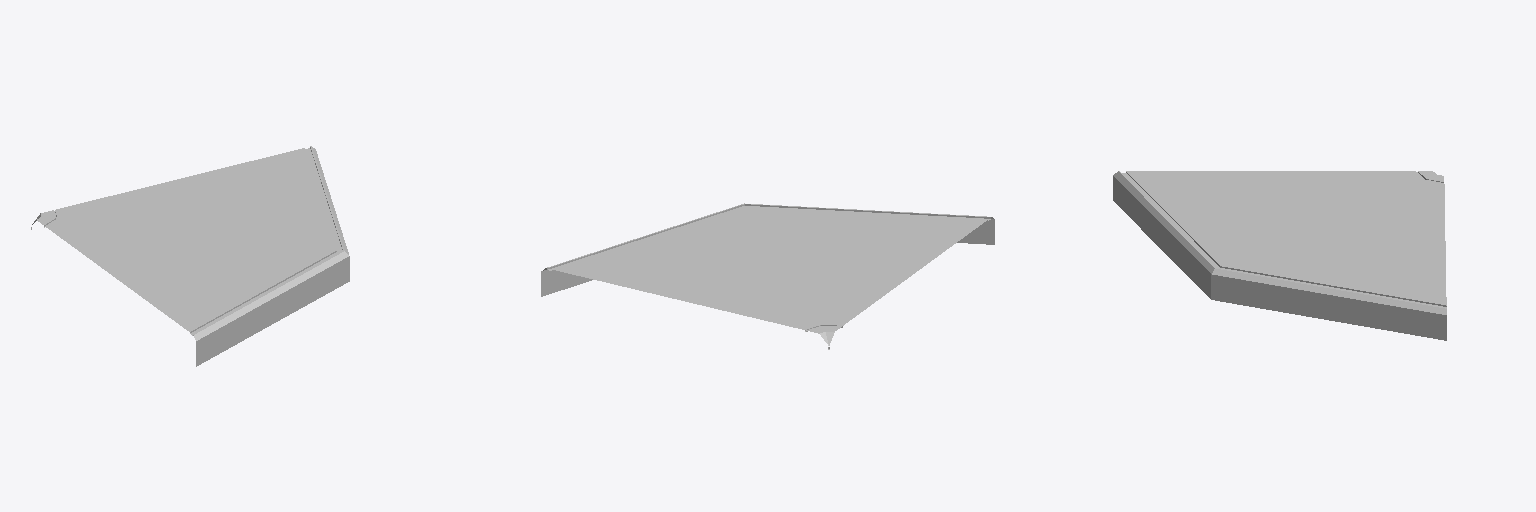
Rendered from SidewalkCornerRound.obj.
The picture shows the model from 3 angles: view 1: azimuth 30°, elevation 25°; view 2: azimuth 150°, elevation 25°; view 3: azimuth 270°, elevation 25°; orthographic projection.
Parts seen in each view (by area): view 1: SidewalkCornerRound_PavementSquare.003; view 2: SidewalkCornerRound_PavementSquare.003; view 3: SidewalkCornerRound_PavementSquare.003.
Boxes of the visible parts, x1=… form: SidewalkCornerRound_PavementSquare.003: x1=31, y1=146, x2=349, y2=366; SidewalkCornerRound_PavementSquare.003: x1=541, y1=203, x2=994, y2=349; SidewalkCornerRound_PavementSquare.003: x1=1113, y1=171, x2=1446, y2=340.
Size of the model in its own units: 2 by 0.2 by 2.02.